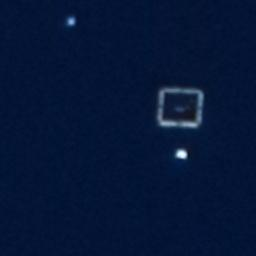square_solid: (151, 81, 209, 132)
